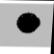correct: (15, 9, 42, 35)
